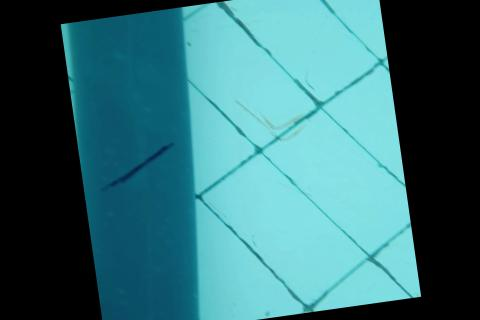keretakan: (91, 139, 179, 193)
